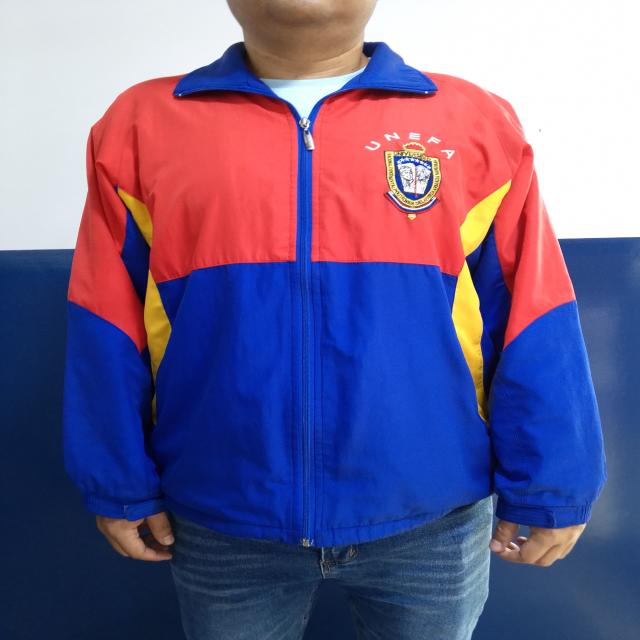chaqueta_unefa: (62, 40, 610, 549)
